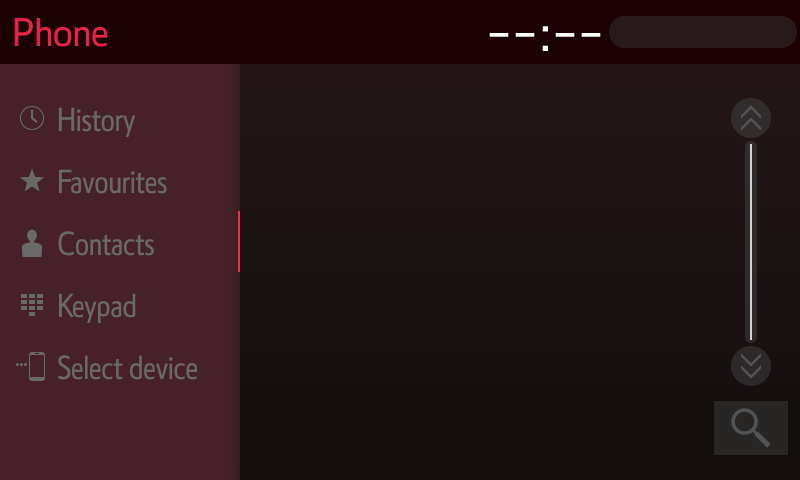untouchPart: (476, 14, 788, 51), (9, 350, 203, 389), (16, 222, 163, 268), (19, 164, 175, 203), (20, 96, 137, 147), (707, 397, 794, 462), (8, 10, 119, 55), (17, 291, 149, 326), (733, 346, 774, 389), (728, 98, 773, 137)
